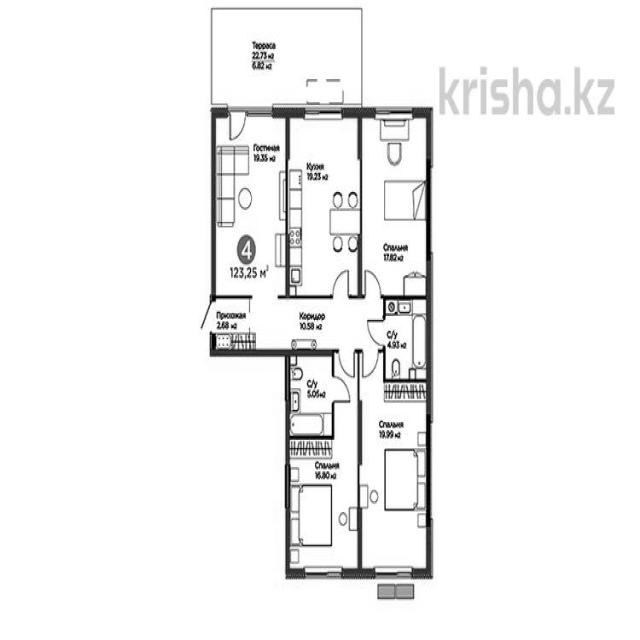balcony: (215, 13, 362, 110)
bathroom: (290, 357, 334, 438), (386, 297, 428, 380)
hallway: (253, 299, 386, 352), (213, 297, 250, 352)
kitchen: (289, 113, 360, 298)
living_room: (215, 115, 287, 298), (360, 382, 428, 572), (360, 115, 429, 296), (288, 437, 358, 575)
